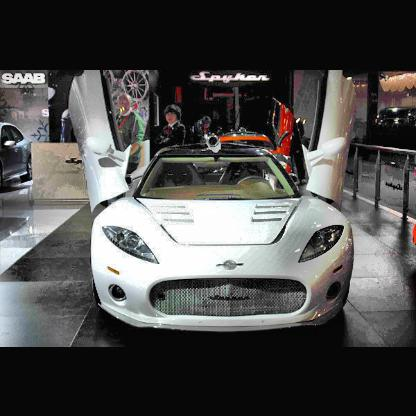Spyker C8 Coupe 2009: (68, 72, 361, 336)
